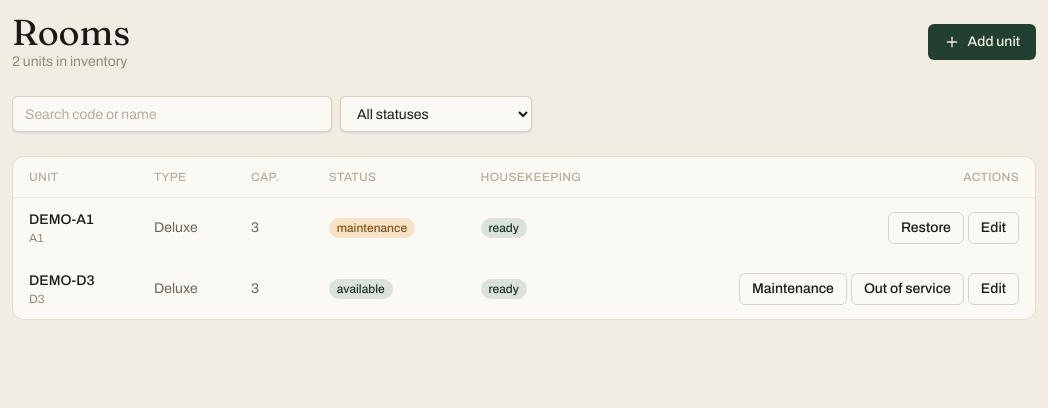
Test: RoomsPage — closing a unit with bookings ahead › asks right under the unit that was clicked, and names it
This screenshot has width=1048, height=408.
Click the button "Out of service": (907, 289) [851,273,964,305]
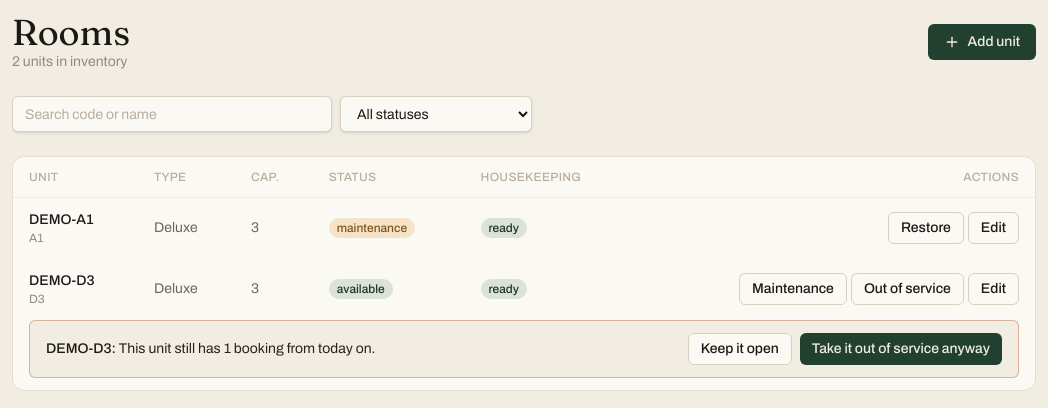
expect the message shows "DEMO-D3": met, box [46,341,112,356]
